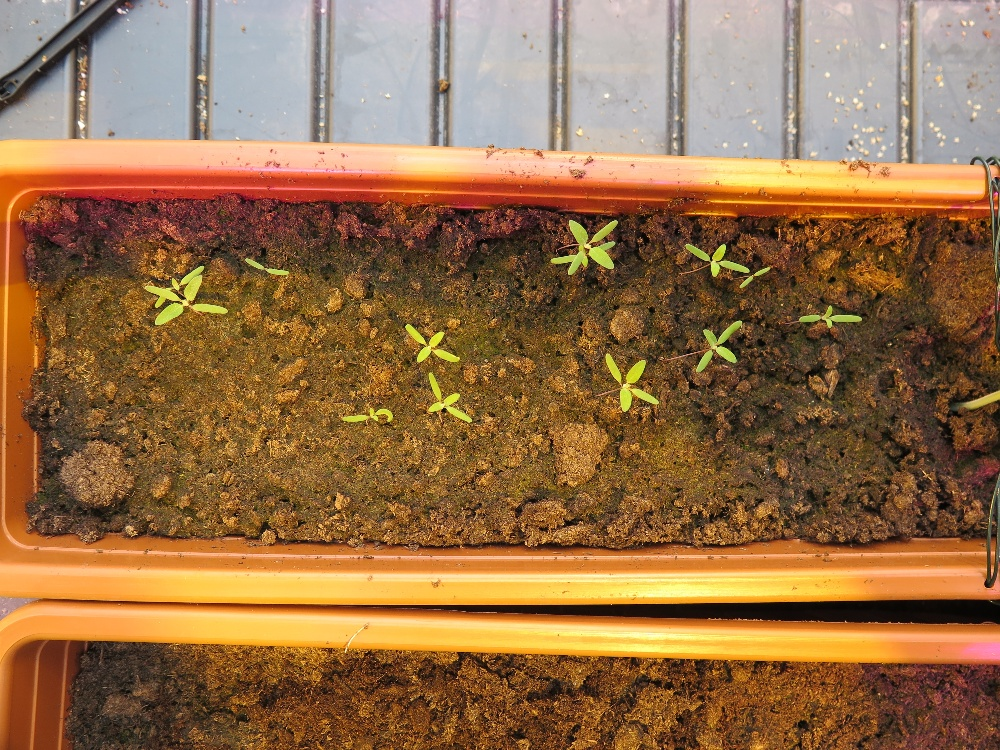weed: (541, 213, 641, 285), (146, 260, 229, 342), (672, 240, 780, 303), (939, 346, 1000, 442), (588, 344, 666, 417), (688, 303, 754, 381), (786, 293, 874, 344), (419, 383, 490, 440), (401, 315, 472, 368), (329, 393, 399, 432), (246, 248, 295, 285)
